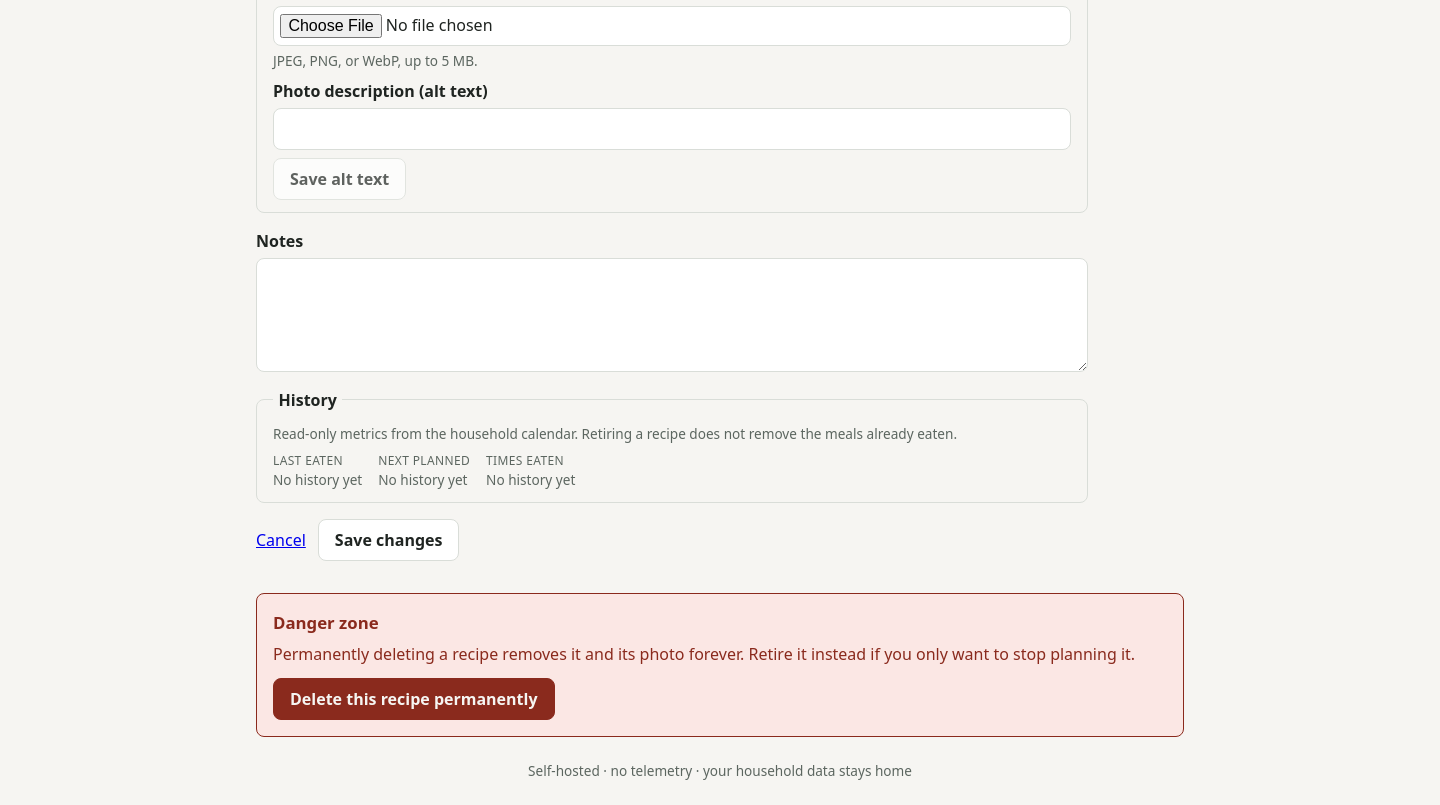
Test: recipe hard delete › keeps Delete disabled until the reason, acknowledgement, and exact name are given
This screenshot has width=1440, height=805.
(page scrolled)
Click the button "Delete this recipe permanently".
click(414, 699)  # box x1=273 y1=678 x2=554 y2=720
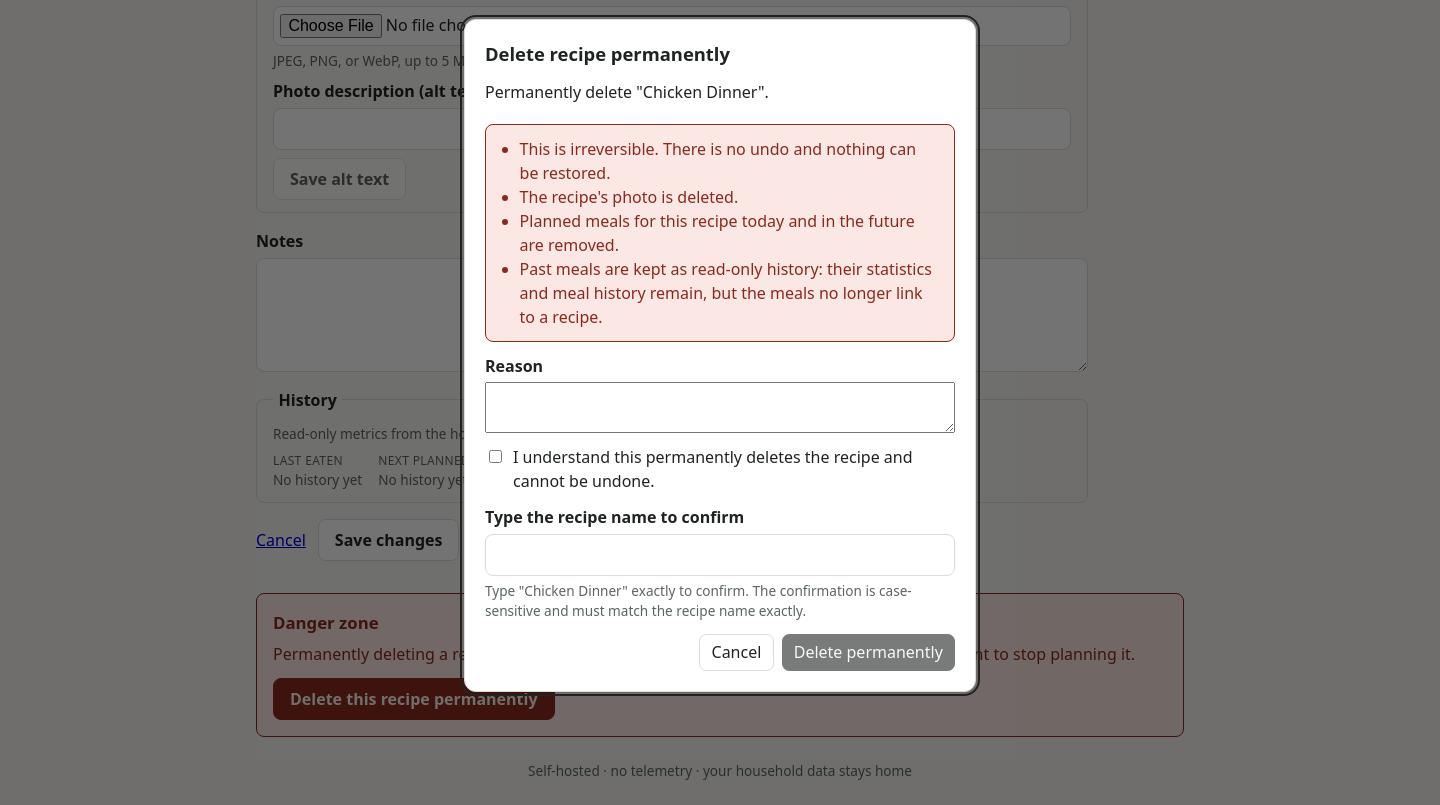
Result: the button "Delete permanently" is disabled at x1=782 y1=634 x2=955 y2=671
Type "Duplicate recipe created by mistake" into the text box labelled "Reason".
click(720, 408); type("Duplicate recipe created by mistake")  # box x1=485 y1=382 x2=955 y2=433
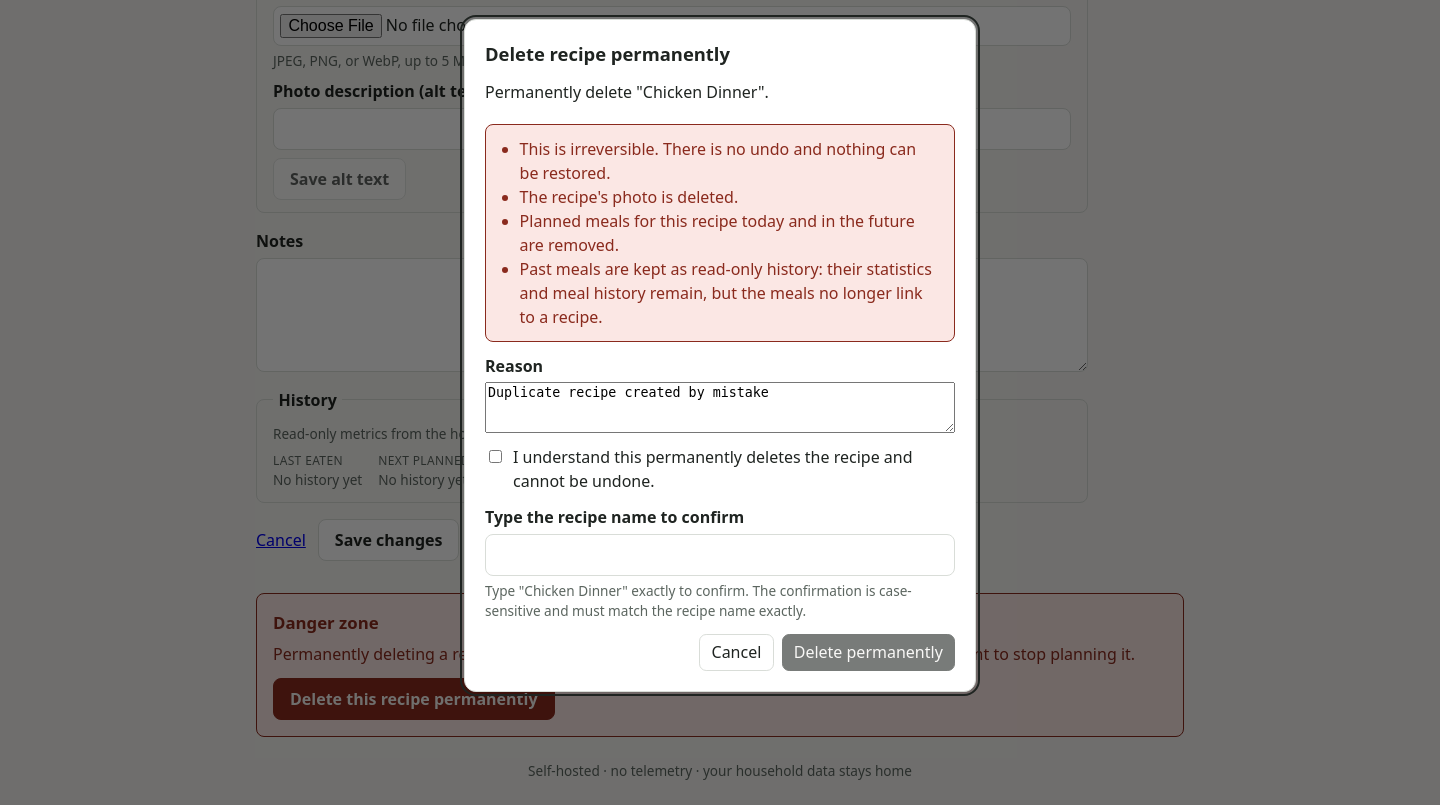
Click the checkbox.
click(496, 457)  # box x1=489 y1=450 x2=502 y2=463
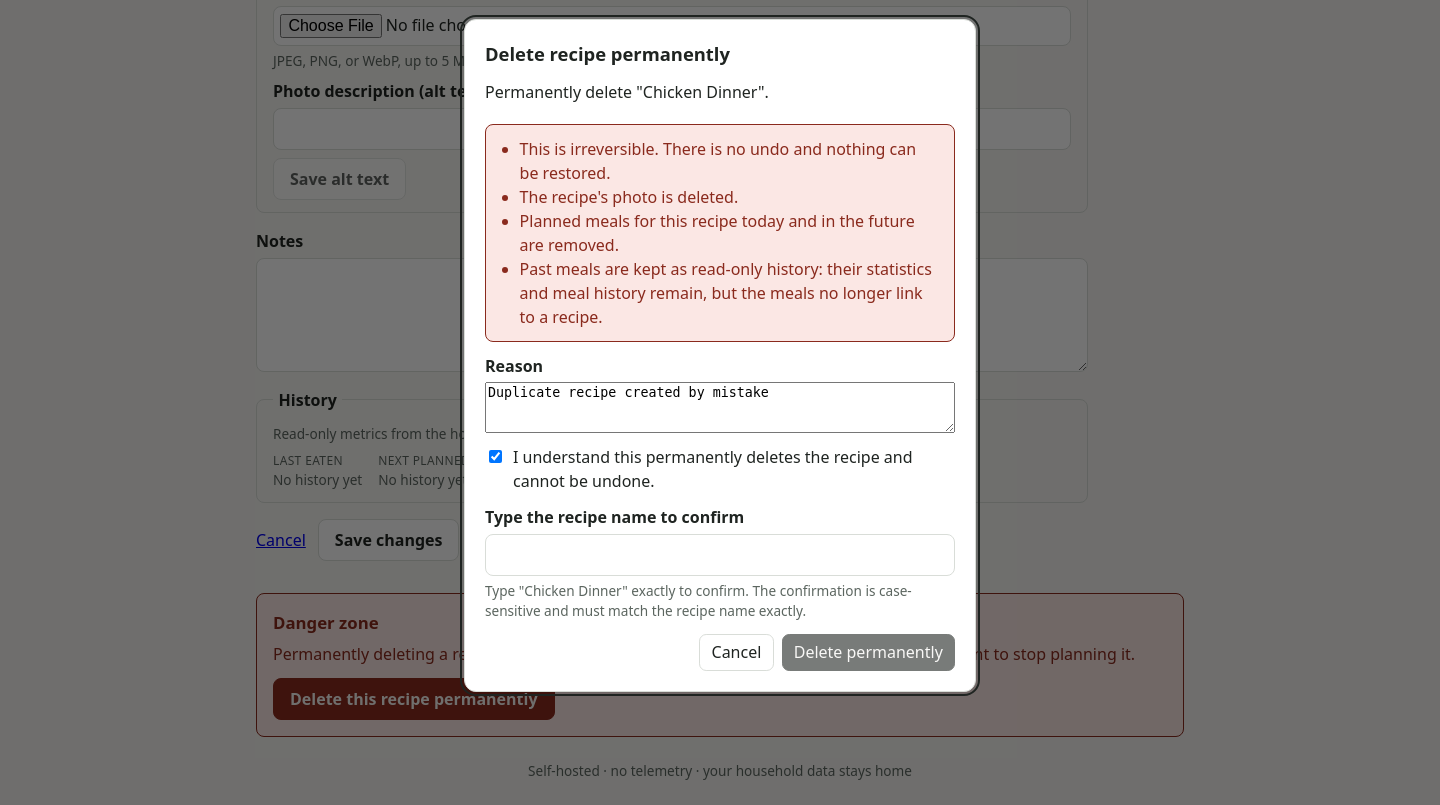
Type "chicken dinner" into the field labelled "Type the recipe name to confirm".
click(720, 555); type("chicken dinner")  # box x1=485 y1=534 x2=955 y2=576
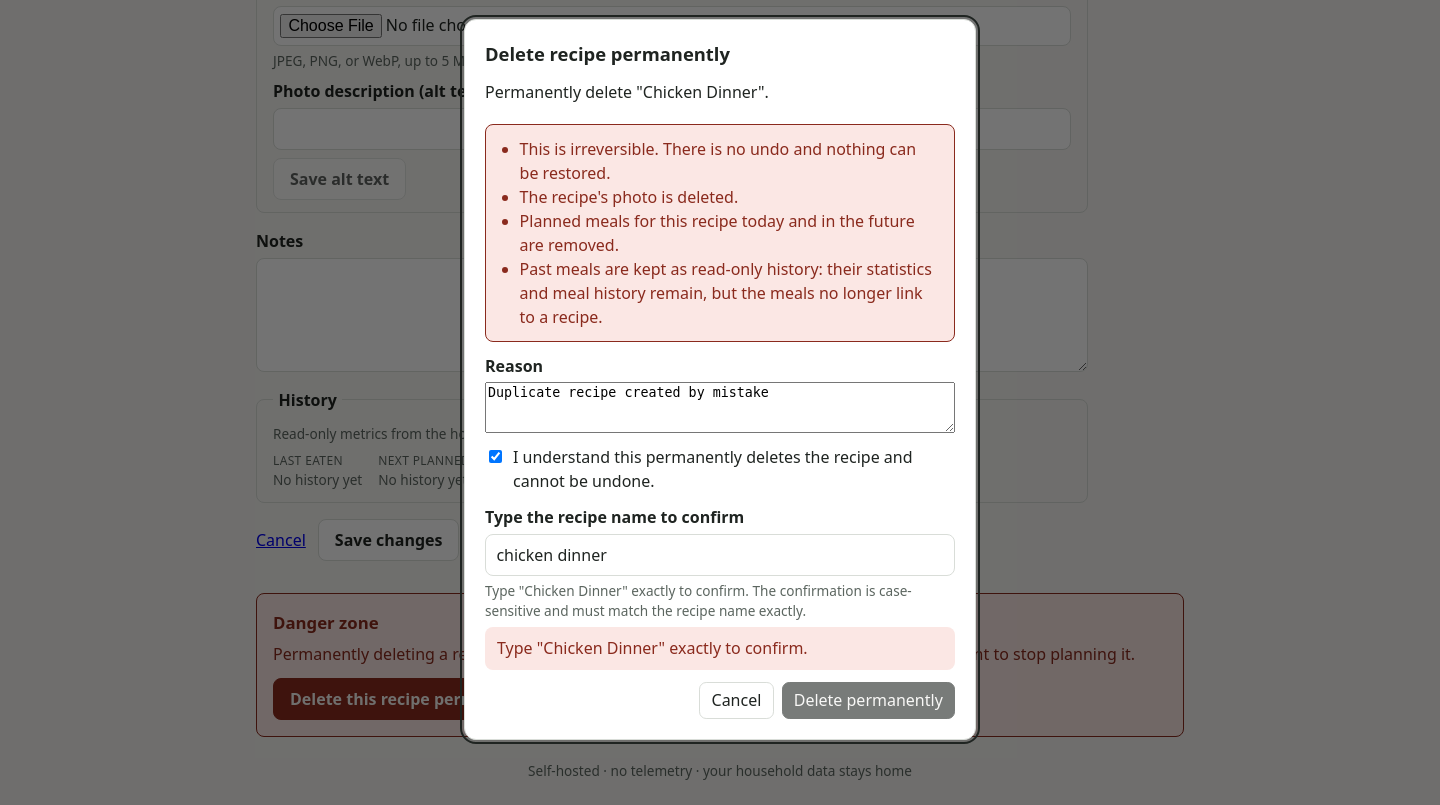
Result: the button "Delete permanently" is disabled at x1=782 y1=682 x2=955 y2=719
Result: the text "Type \"Chicken Dinner\" exactly to confirm." is shown at x1=485 y1=627 x2=955 y2=670
Replace the text in the field labelled "Type the recipe name to confirm" with "Chicken Dinner" at (720, 555), box x1=485 y1=534 x2=955 y2=576
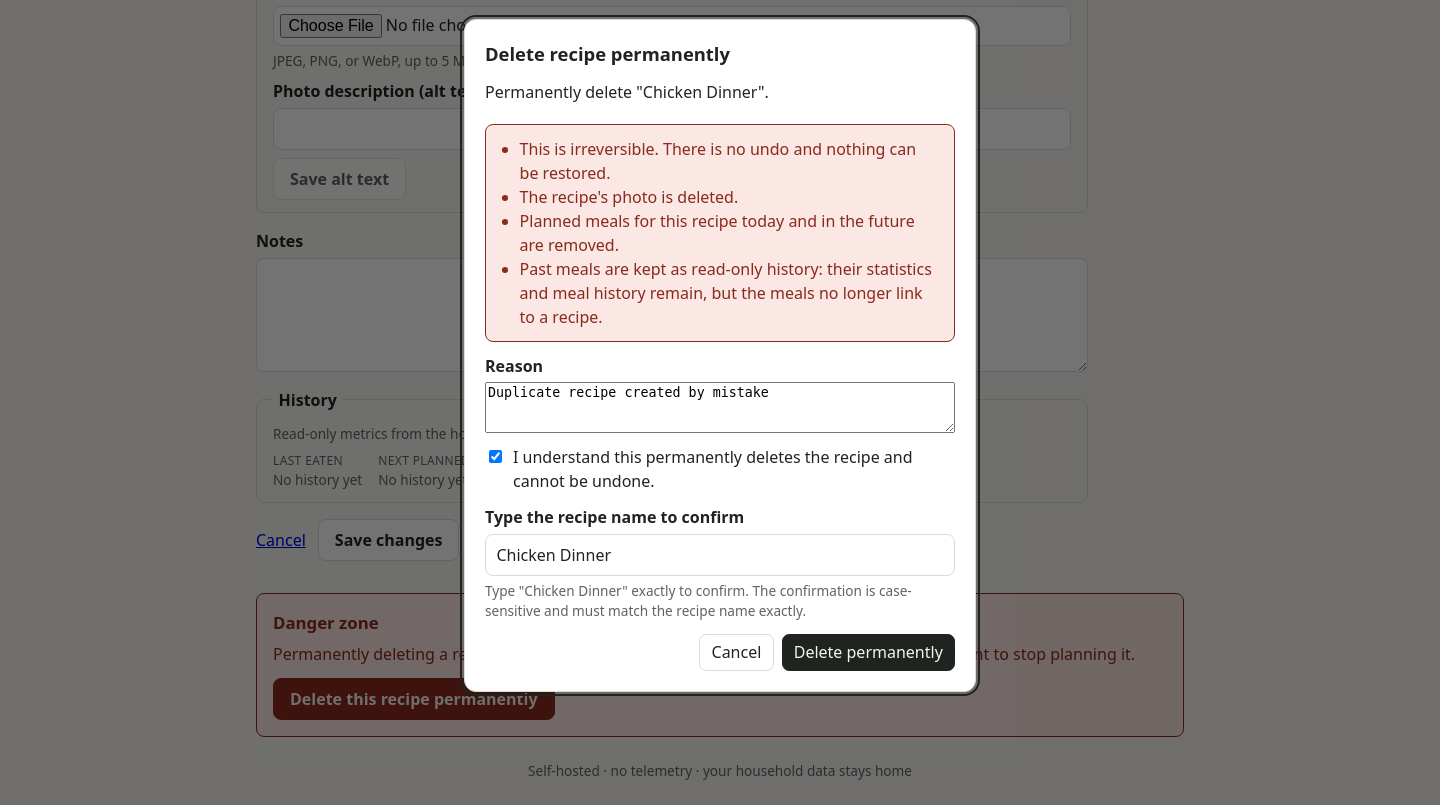
Result: the button "Delete permanently" is enabled at x1=782 y1=634 x2=955 y2=671
